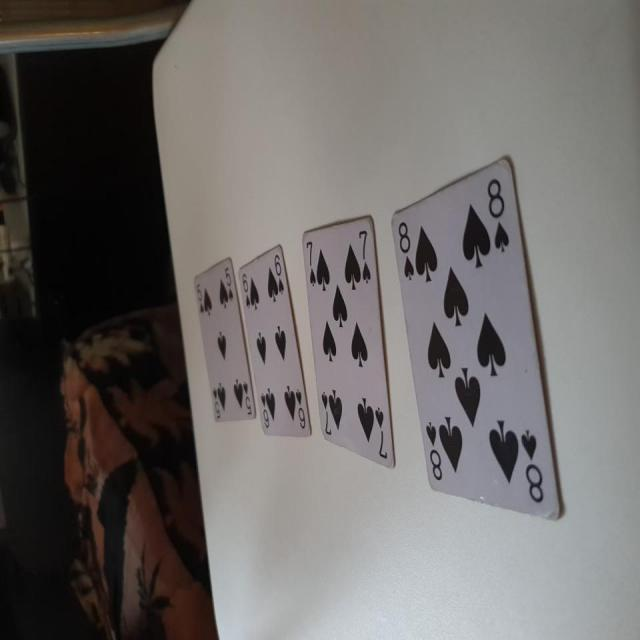5 of spades: (192, 262, 259, 430)
6 of spades: (238, 244, 313, 441)
7 of spades: (292, 214, 399, 478)
8 of spades: (382, 151, 564, 531)
